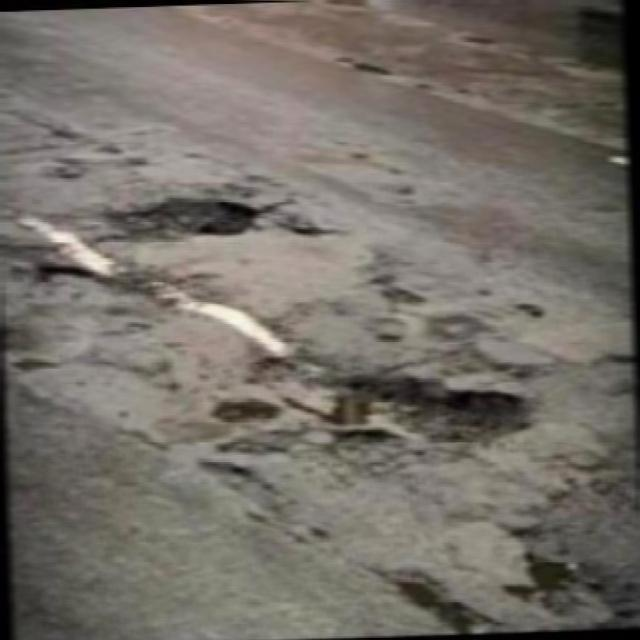Pothole: (190, 361, 547, 486), (493, 517, 640, 624), (76, 183, 273, 255), (368, 553, 488, 633), (323, 46, 398, 85), (30, 260, 94, 292), (456, 28, 510, 54)
